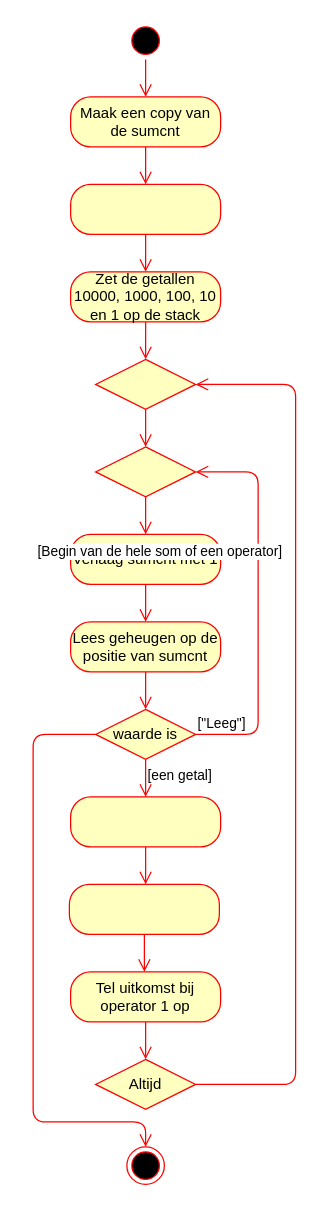
This 330x1206 diagram has some shape labels left out. Each missing label, with the centre of its shape:
"Haal een getal van de stack" goes at (x=145, y=821).
"Reset operand 1" goes at (x=145, y=208).
"Vermenigvuldig waarde met getal" goes at (x=143, y=908).
